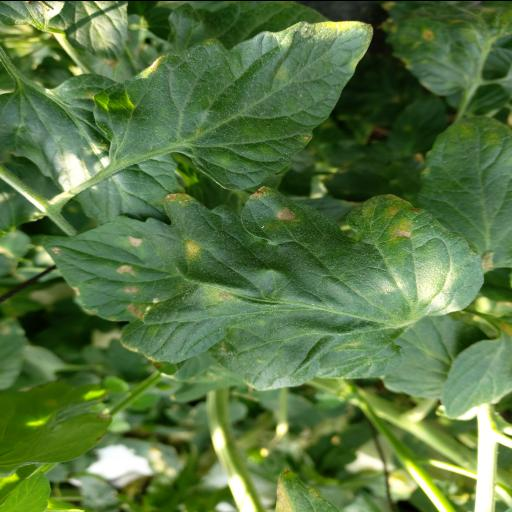Leaf Mold: (44, 184, 484, 390), (92, 18, 372, 188)
